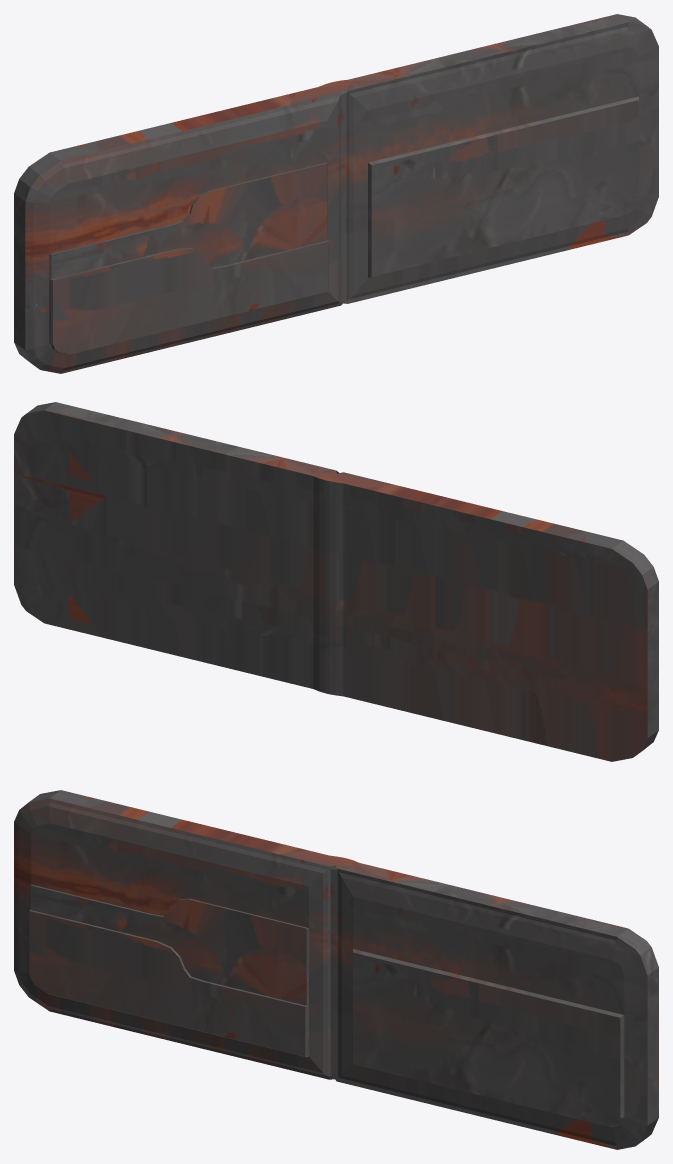
File: WalletTextured.fbx
3 renders of one model, top to bottom at view 1: azimuth 30°, elevation 25°; view 2: azimuth 150°, elevation 25°; view 3: azimuth 330°, elevation 25°, orthographic.
Parts seen in each view (by area): view 1: Cube; view 2: Cube; view 3: Cube.
Part boxes in pixels (bbox=[...]): Cube: bbox=[14, 14, 658, 373]; Cube: bbox=[14, 402, 658, 761]; Cube: bbox=[14, 790, 658, 1149].
Size of the model in its own units: 249 by 79.95 by 12.69.
